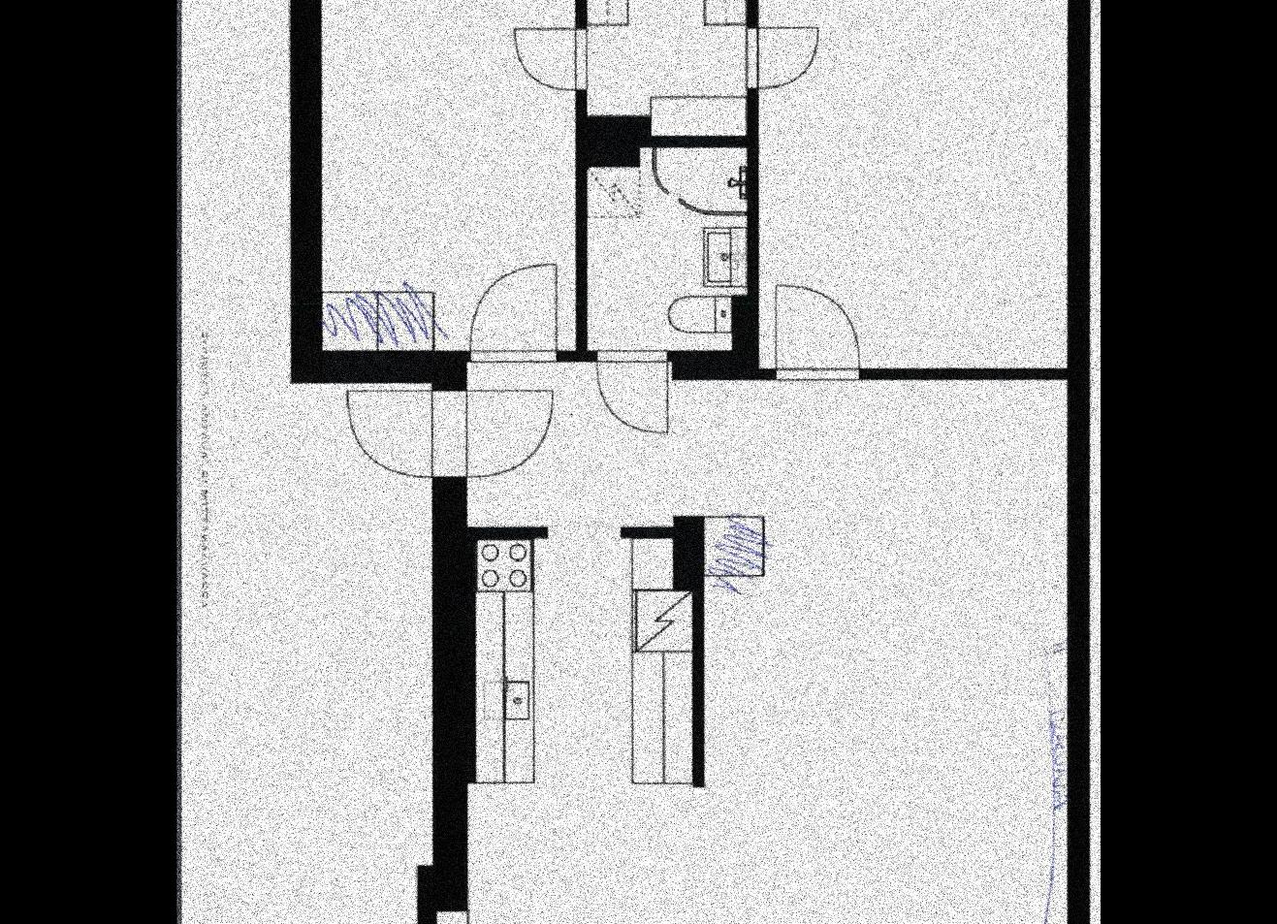door: (342, 385, 557, 481), (462, 258, 559, 366), (771, 284, 859, 385), (591, 347, 669, 435), (744, 23, 820, 92), (512, 28, 589, 91)
zone: (468, 364, 1069, 924), (762, 0, 1071, 367), (321, 0, 580, 349), (586, 145, 749, 350), (584, 0, 747, 136)
